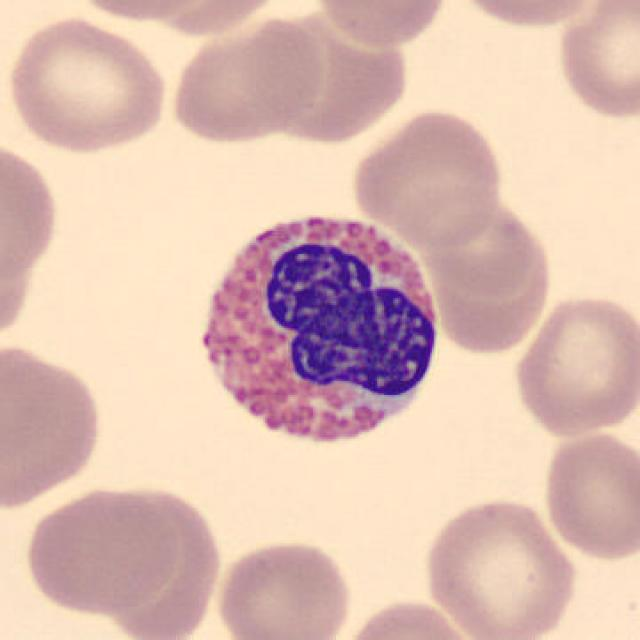Eosinophil: (181, 196, 450, 469)
RBC: (2, 12, 170, 157), (419, 492, 582, 640), (346, 104, 508, 249), (20, 483, 183, 619), (165, 10, 327, 146), (252, 13, 411, 145), (98, 483, 228, 637), (508, 289, 638, 441), (0, 337, 108, 515), (431, 204, 552, 355), (212, 536, 356, 640), (0, 130, 64, 346), (539, 427, 638, 564), (551, 0, 640, 123), (74, 0, 290, 39), (309, 0, 452, 51), (336, 594, 480, 640), (446, 0, 610, 32), (57, 0, 220, 25)
